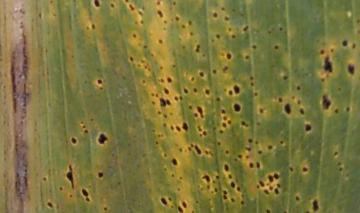tarspot: (66, 164, 75, 190), (323, 56, 334, 73), (321, 94, 331, 111), (97, 133, 109, 145), (346, 63, 355, 76), (283, 102, 291, 115), (201, 173, 211, 183), (197, 105, 204, 118), (312, 199, 319, 212), (194, 144, 202, 155), (233, 103, 241, 112), (160, 197, 168, 206), (81, 188, 89, 197), (159, 97, 166, 107), (233, 84, 240, 94), (70, 137, 78, 145), (46, 201, 54, 209), (157, 9, 164, 18), (182, 122, 189, 131), (304, 123, 311, 132), (299, 107, 306, 116), (194, 43, 200, 53), (171, 158, 178, 166), (242, 25, 249, 33), (267, 174, 274, 182), (97, 171, 104, 179), (224, 162, 229, 172), (223, 190, 228, 200), (128, 3, 135, 10), (157, 38, 164, 45), (222, 66, 229, 73), (344, 106, 351, 113), (93, 1, 101, 7), (263, 188, 269, 196), (182, 201, 188, 209), (255, 160, 260, 169), (137, 10, 144, 16), (164, 88, 170, 95), (166, 98, 172, 105), (175, 125, 181, 132), (199, 71, 205, 78), (204, 89, 211, 95), (212, 11, 218, 18), (223, 15, 230, 21), (226, 53, 232, 60), (282, 75, 289, 81), (241, 121, 248, 127), (301, 166, 308, 172), (319, 48, 325, 55), (351, 43, 357, 50), (274, 188, 280, 195), (178, 206, 184, 213), (167, 76, 172, 84), (174, 94, 179, 102), (342, 39, 347, 47), (274, 172, 279, 180), (97, 79, 103, 85), (140, 58, 146, 64), (183, 88, 189, 94), (193, 112, 199, 118), (196, 125, 202, 131), (224, 149, 230, 155), (245, 146, 251, 152), (267, 144, 273, 150), (288, 166, 294, 172), (230, 182, 236, 188), (194, 199, 200, 205), (91, 23, 96, 30), (129, 55, 134, 62), (141, 78, 146, 85), (170, 124, 175, 131), (190, 76, 195, 83), (216, 95, 221, 102), (274, 44, 279, 51), (259, 107, 264, 114), (265, 208, 272, 213), (295, 195, 300, 202), (260, 180, 265, 187), (179, 94, 183, 102), (110, 3, 116, 8), (140, 19, 145, 25), (142, 44, 148, 49), (155, 92, 160, 98), (150, 91, 155, 97), (163, 113, 168, 119), (158, 133, 164, 138), (187, 20, 193, 25), (202, 130, 207, 136), (204, 150, 210, 155), (216, 33, 221, 39), (212, 69, 217, 75), (222, 122, 227, 128), (244, 54, 249, 60), (256, 121, 261, 127), (248, 138, 253, 144), (249, 162, 254, 168), (279, 140, 284, 146), (278, 97, 283, 103), (296, 85, 301, 91), (329, 48, 335, 53), (333, 151, 338, 157), (337, 161, 342, 167), (256, 184, 261, 190), (269, 185, 274, 191), (227, 173, 232, 179), (215, 174, 220, 180), (58, 186, 64, 191), (42, 176, 47, 182), (85, 197, 91, 202), (337, 86, 342, 92), (335, 108, 339, 115), (132, 33, 137, 38), (156, 1, 161, 6), (172, 1, 177, 6), (175, 16, 180, 21), (90, 117, 95, 122), (80, 120, 85, 125), (99, 86, 104, 91), (160, 78, 165, 83), (163, 123, 168, 128), (151, 128, 156, 133), (193, 88, 198, 93), (221, 6, 226, 11), (210, 38, 215, 43), (221, 109, 226, 114), (219, 129, 224, 134), (228, 90, 233, 95), (231, 34, 236, 39), (252, 45, 257, 50), (278, 27, 283, 32), (245, 155, 250, 160), (257, 150, 262, 155), (320, 78, 325, 83), (214, 188, 219, 193), (68, 193, 73, 198), (86, 25, 90, 31), (151, 99, 155, 105), (179, 147, 183, 153), (172, 63, 176, 69), (182, 24, 186, 30), (163, 26, 167, 32), (223, 115, 227, 121), (227, 119, 231, 125), (217, 141, 221, 147), (250, 81, 254, 87), (277, 183, 281, 189), (240, 200, 244, 206), (231, 197, 235, 203), (356, 18, 360, 24), (39, 12, 42, 19), (102, 207, 109, 210), (134, 21, 139, 25), (164, 20, 168, 25), (137, 63, 141, 68), (147, 68, 152, 72), (145, 65, 149, 70), (158, 110, 162, 115), (164, 153, 168, 158), (189, 105, 193, 110), (187, 147, 192, 151), (249, 76, 254, 80), (254, 92, 258, 97), (255, 141, 259, 146), (238, 154, 242, 159), (297, 100, 301, 105), (291, 96, 296, 100), (237, 186, 241, 191), (168, 197, 172, 202), (171, 173, 175, 178), (177, 187, 181, 192), (81, 126, 87, 129), (151, 52, 154, 58), (305, 210, 311, 213), (207, 184, 210, 190), (283, 210, 289, 213), (85, 130, 89, 134), (160, 66, 164, 70), (190, 32, 194, 36), (190, 143, 194, 147), (199, 133, 203, 137), (202, 53, 206, 57), (228, 28, 232, 32), (268, 30, 272, 34), (234, 158, 238, 162), (339, 168, 343, 172), (191, 209, 195, 213), (179, 176, 183, 180), (125, 1, 129, 4), (156, 141, 159, 145), (183, 46, 186, 49)
